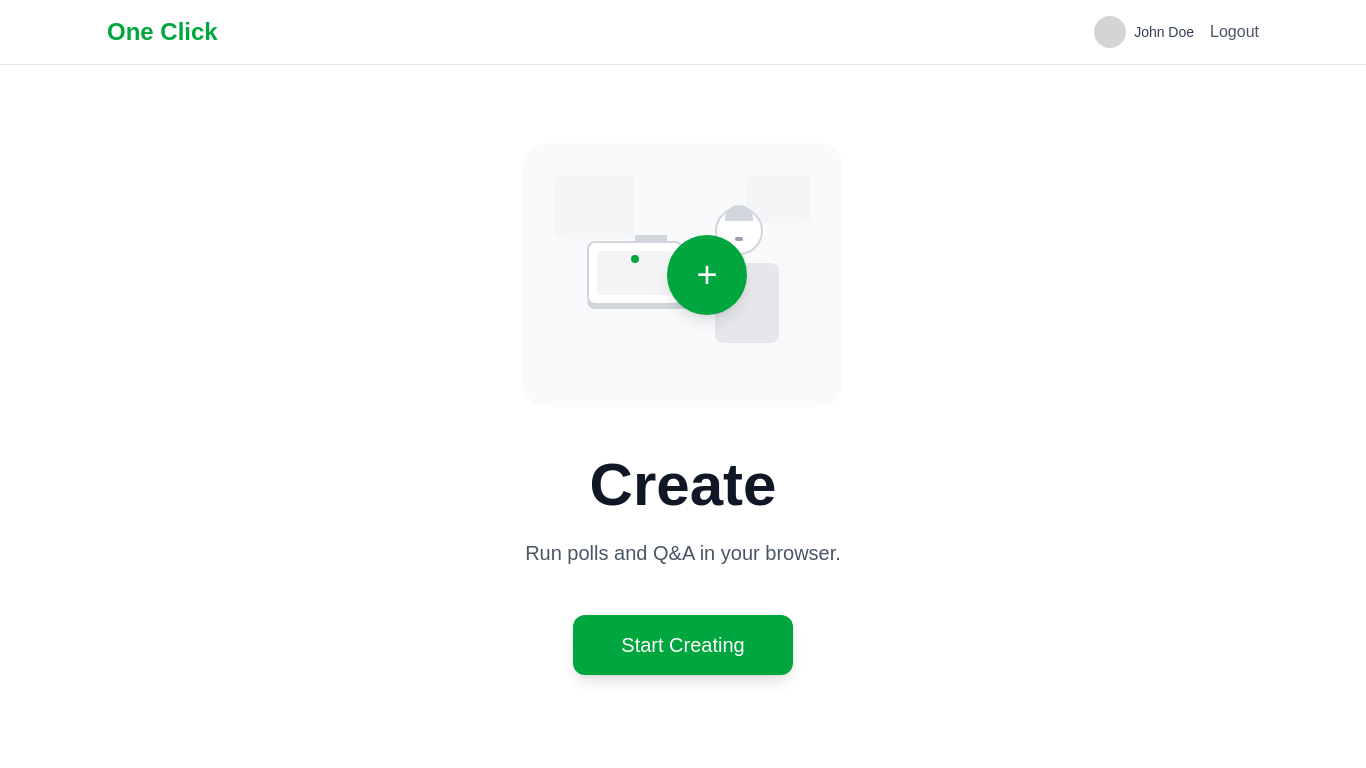
Create Page › opens modal when Start Creating button is clicked
Click the button "Start Creating". click: (683, 645)
box: [573, 615, 793, 675]
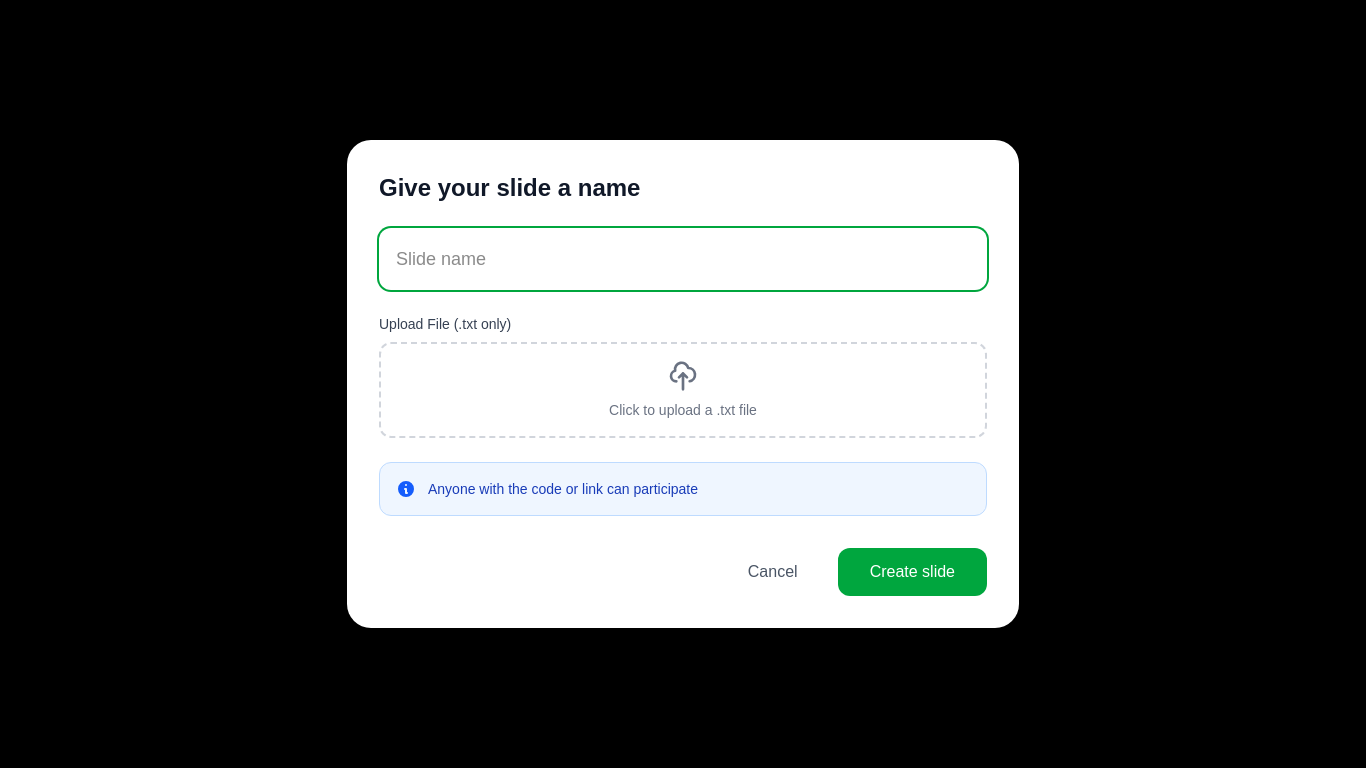
Expected: the heading "Give your slide a name" is shown, [379, 174, 640, 201]
Expected: the field with placeholder "Slide name" is shown, [379, 228, 987, 290]
Expected: the text "Anyone with the code or link can participate" is shown, [428, 479, 698, 499]
